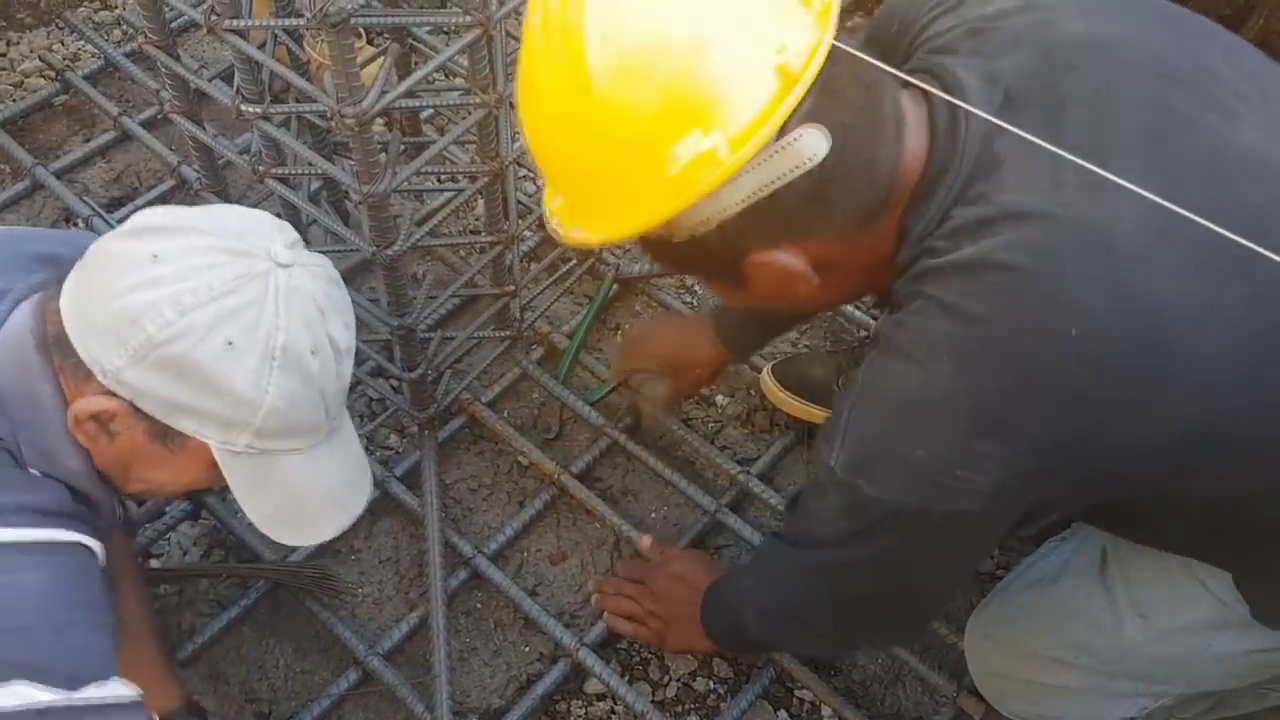helmet: (508, 1, 837, 253)
helmet-off: (25, 200, 368, 530)
helmet-on: (507, 1, 962, 321)
person: (507, 3, 1280, 695), (0, 200, 379, 718)
